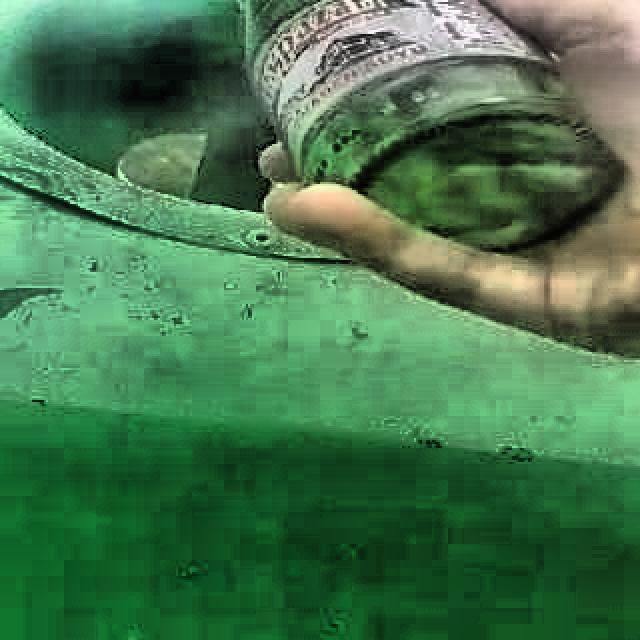glass: (242, 0, 619, 249)
